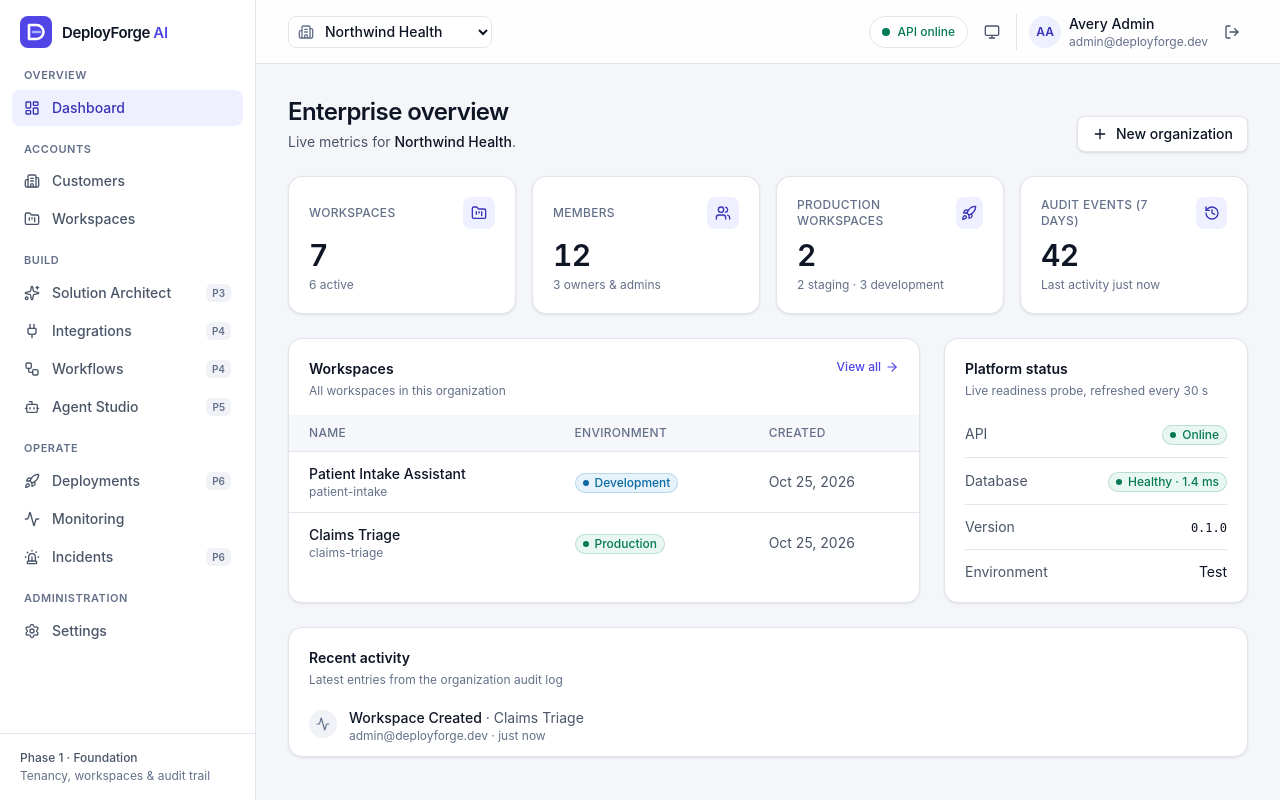
Scenario: application shell › navigates between pages from the sidebar
Click the link "Settings" at (65, 630), box [24,622,107,638]
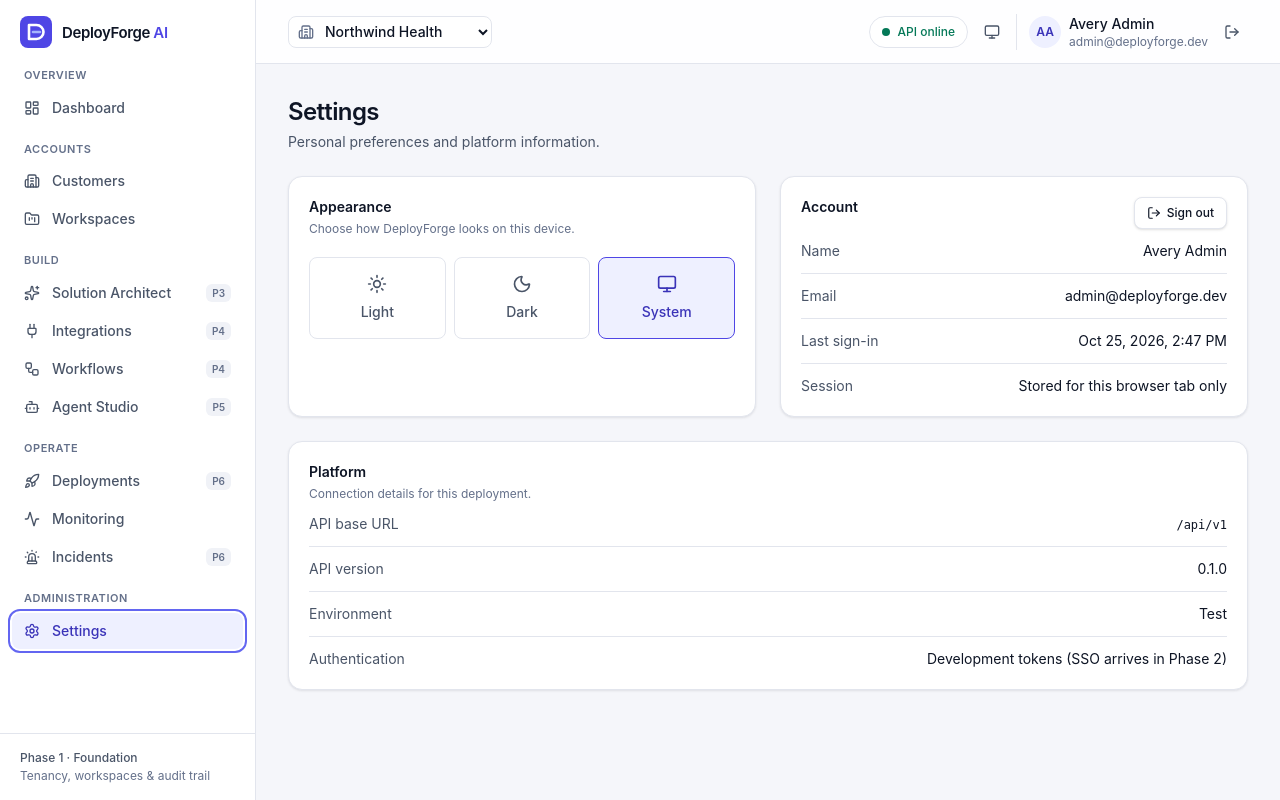
Expected: the text "admin@deployforge.dev" in the row of "Email" is shown, [1065,287,1227,304]
Expected: the heading "Settings" is shown, [288,97,379,126]
